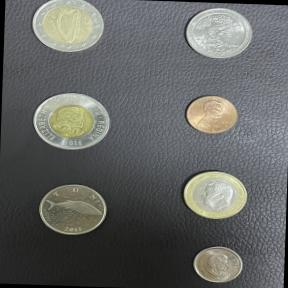coin: (28, 88, 114, 157), (26, 0, 109, 57), (180, 3, 256, 64), (34, 180, 110, 240), (178, 168, 252, 224), (182, 92, 242, 136), (190, 242, 246, 286)
